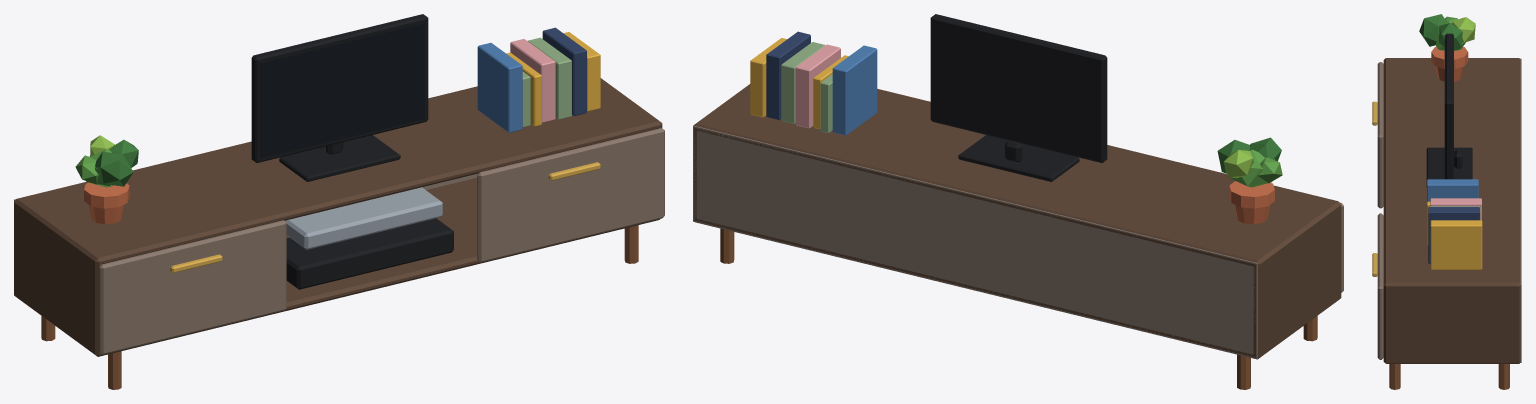
The model's file is tv_stand.glb.
3 views of the same model, side by side, from view 1: azimuth 30°, elevation 25°; view 2: azimuth 150°, elevation 25°; view 3: azimuth 270°, elevation 25° (orthographic). The views are drawn at different scales.
Parts seen in each view (by area): view 1: tv_stand_Body; view 2: tv_stand_Body; view 3: tv_stand_Body.
Boxes of the visible parts, <box> form: tv_stand_Body: <box>14,14,664,389</box>; tv_stand_Body: <box>693,14,1343,389</box>; tv_stand_Body: <box>1372,14,1521,389</box>.
Size of the model in its own units: 1.8 by 0.8 by 0.5.
